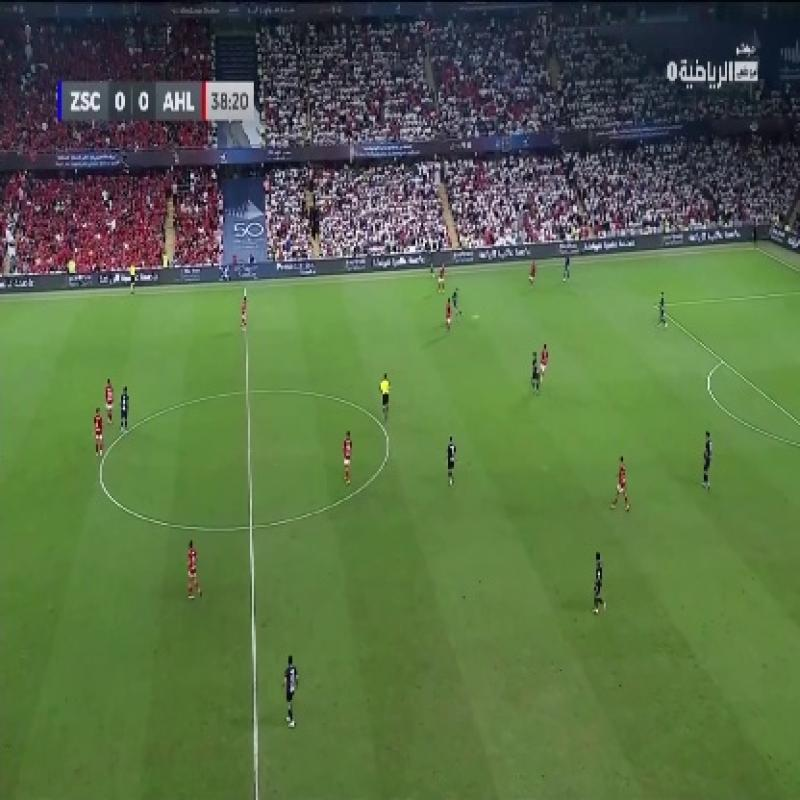1: (744, 241, 762, 254)
10: (713, 350, 729, 368)
13: (237, 275, 254, 296)
14: (233, 377, 260, 406)
15: (237, 508, 264, 542)
9: (648, 299, 666, 314)
c: (80, 458, 122, 500), (370, 424, 405, 462)
